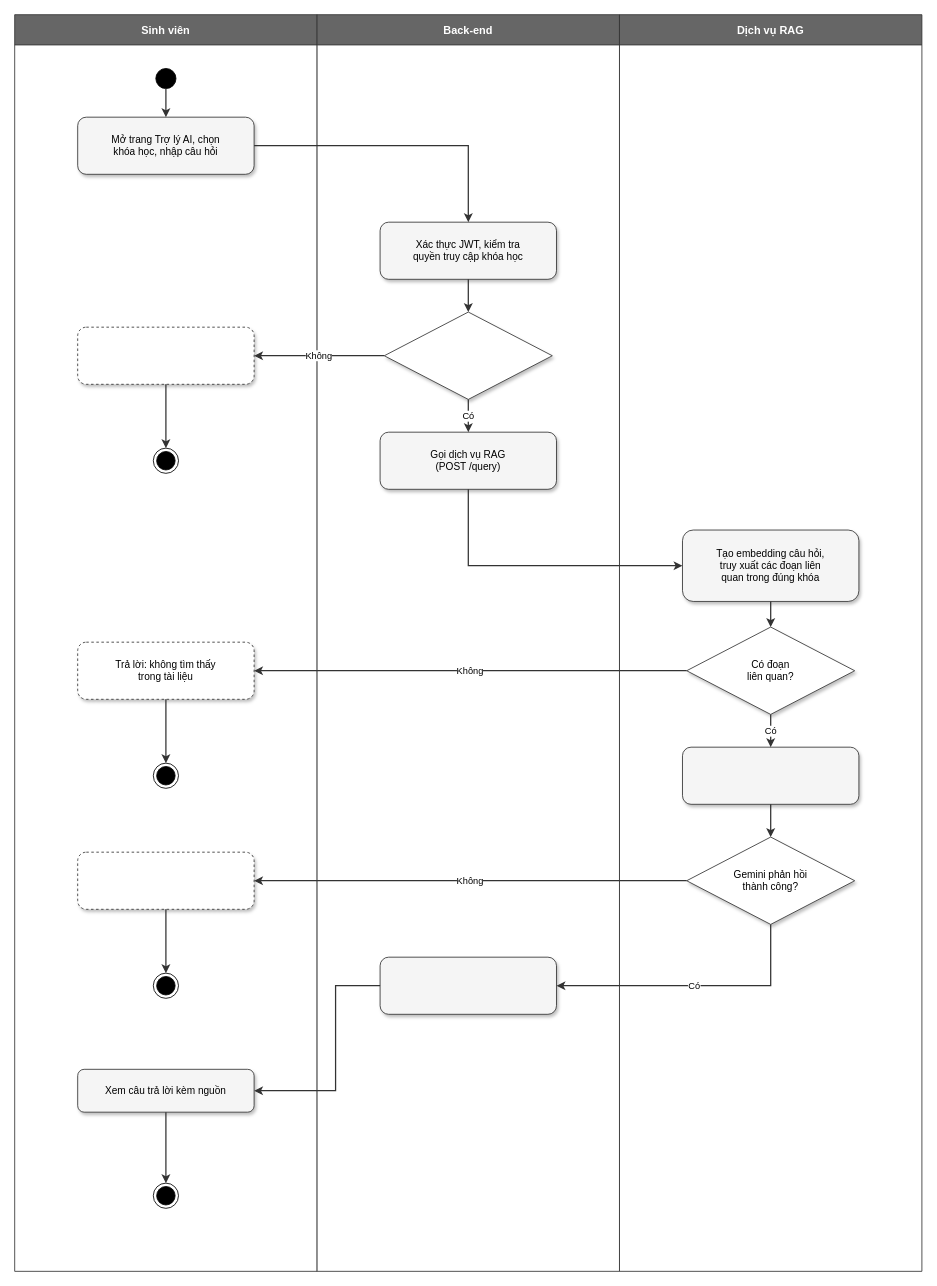
This 937x1286 diagram has some shape labels left out. Each missing label, with the centre of its shape:
Có quyền, khóa có tài liệu?: point (468, 356)
Gemini sinh câu trả lời từ các đoạn tìm được: point (771, 776)
Lưu câu hỏi và câu trả lời (ai_messages): point (469, 986)
Thông báo lỗi hoặc khóa chưa có tài liệu: point (166, 356)
Thông báo lỗi, thử lại sau: point (166, 881)
